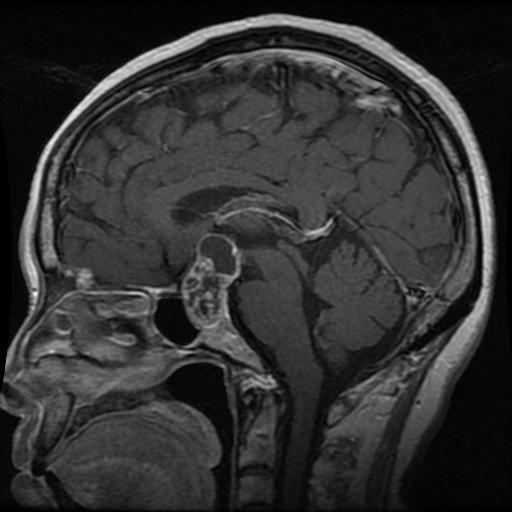Pituirity_tumour: (181, 231, 242, 330)
